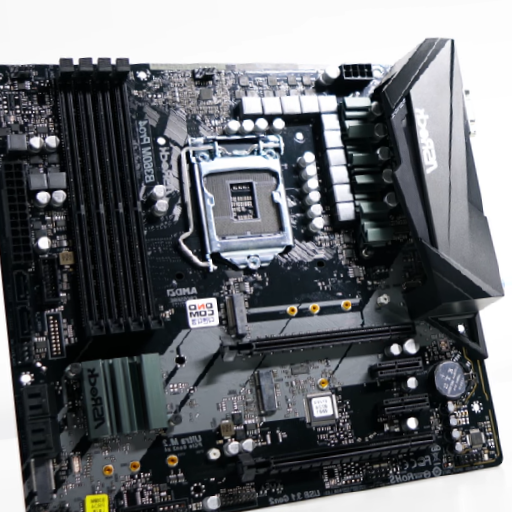CPU: (187, 135, 295, 271)
GPU: (241, 430, 436, 484), (220, 321, 419, 364)
MOTHERBOARD: (1, 64, 502, 512)
RAM: (55, 59, 166, 351)
SSD: (252, 370, 279, 417), (223, 293, 249, 337)
